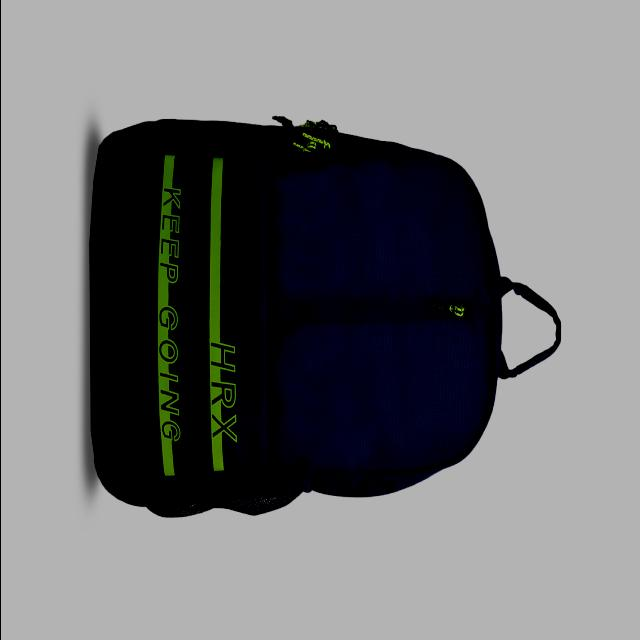backpack: (90, 117, 563, 519)
